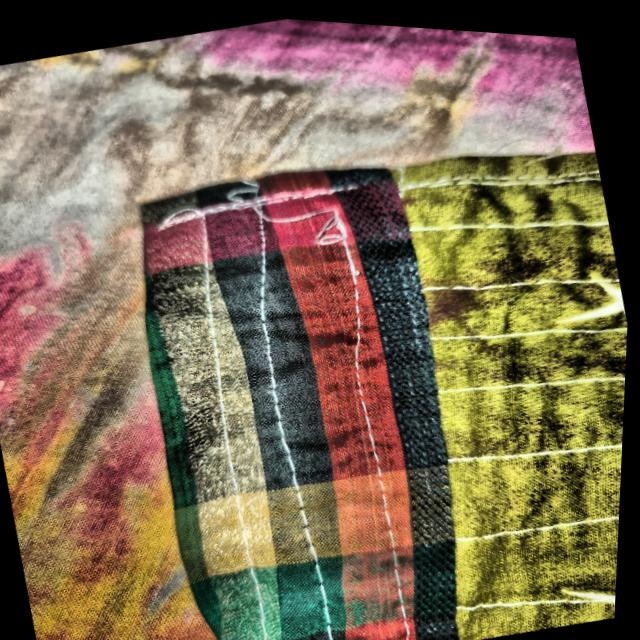Stitch: (144, 144, 404, 303)
